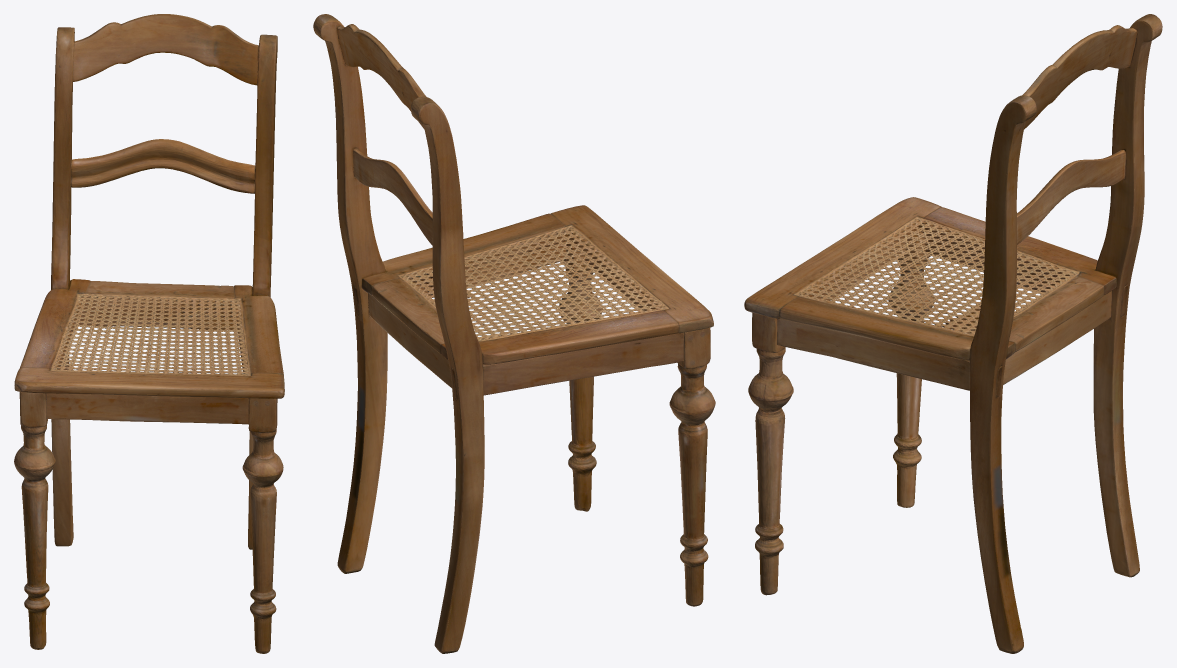
Rendered from EB5519EC-A90F-C542-8F04-0BFF89AE356B_2k.glb.
3 views of the same model, side by side, from view 1: azimuth 30°, elevation 25°; view 2: azimuth 150°, elevation 25°; view 3: azimuth 270°, elevation 25° (orthographic). The views are drawn at different scales.
Visible parts, largest first — view 1: Stuhlgeflecht_115k_2k; view 2: Stuhlgeflecht_115k_2k; view 3: Stuhlgeflecht_115k_2k.
Boxes of the visible parts, x1=… form: Stuhlgeflecht_115k_2k: x1=14, y1=14, x2=284, y2=653; Stuhlgeflecht_115k_2k: x1=313, y1=14, x2=715, y2=653; Stuhlgeflecht_115k_2k: x1=744, y1=14, x2=1162, y2=653.
Bounding box in the file's own units: 0.5706 × 0.9108 × 0.5929.
1 material, 1 textured.
